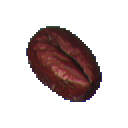ng: (21, 18, 113, 112)
